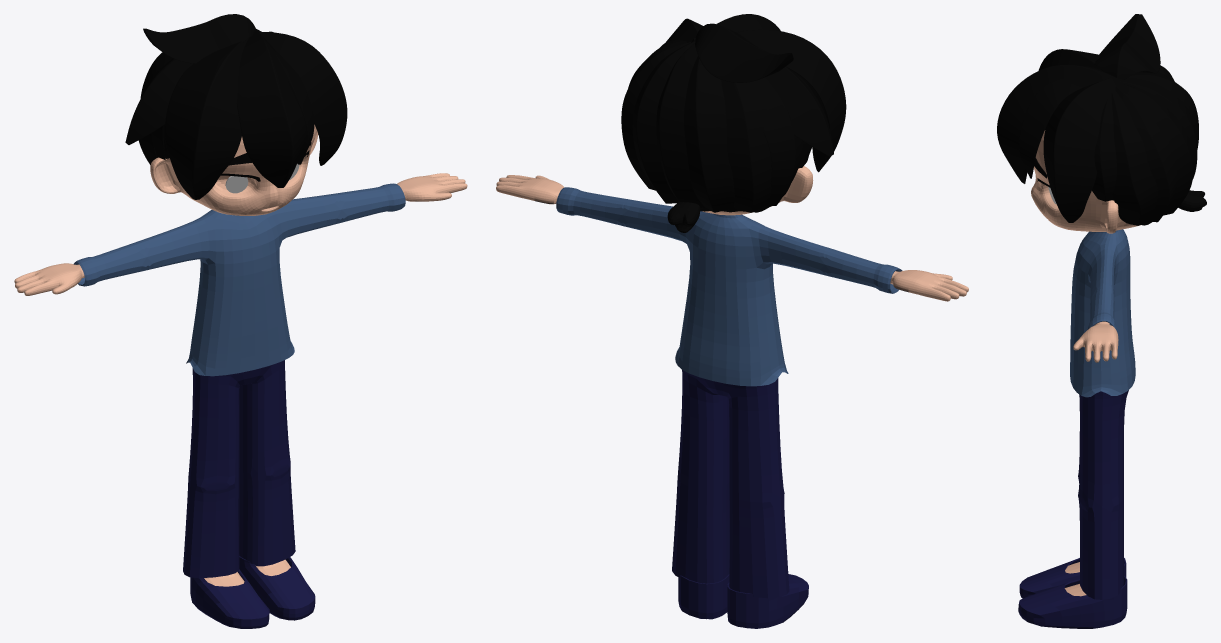
The model's file is lin2.fbx.
3 views of the same model, side by side, from view 1: azimuth 30°, elevation 25°; view 2: azimuth 150°, elevation 25°; view 3: azimuth 270°, elevation 25° (orthographic). The views are drawn at different scales.
Visible parts, largest first — view 1: shirt, Pants, hair2, body, hair1, hair3, hair5, shoeR, shoeL, hair4, hair17; view 2: shirt, Pants, hair9, hair8, hair2, body, hair10, hair5, hair11, hair7, hair4, shoeR (+4 smaller); view 3: Pants, shirt, hair3, body, hair13, shoeL, hair1, hair5, hair12, hair11, hair17, hair14 (+5 smaller).
Part boxes in pixels (x1,y1,x2,y2): shirt: (73,183,405,376); Pants: (183,360,295,578); hair2: (165,38,248,199); body: (14,124,467,586); hair1: (236,30,306,187); hair3: (259,31,347,165); hair5: (143,14,256,63); shoeR: (190,569,269,628); shoeL: (239,556,315,620); hair4: (125,59,193,144); hair17: (276,51,314,164); shirt: (556,187,902,386); Pants: (672,370,789,598); hair9: (684,56,734,212); hair8: (721,80,771,212); hair2: (735,29,846,172); body: (496,166,968,301); hair10: (656,43,704,207); hair5: (695,23,793,82); hair11: (632,41,695,203); hair7: (755,77,802,205); hair4: (766,66,833,156); shoeR: (727,574,808,628); Pants: (1078,390,1128,599); shirt: (1070,229,1135,397); hair3: (1043,78,1115,222); body: (1031,130,1140,596); hair13: (1111,91,1157,225); shoeL: (1018,576,1127,628); hair1: (997,65,1120,183); hair5: (1094,14,1160,79); hair12: (1115,86,1177,222); hair11: (1117,82,1192,215); hair17: (1019,78,1114,178); hair14: (1092,95,1116,201).
Bounding box in the file's own units: 846 × 1036 × 352.
